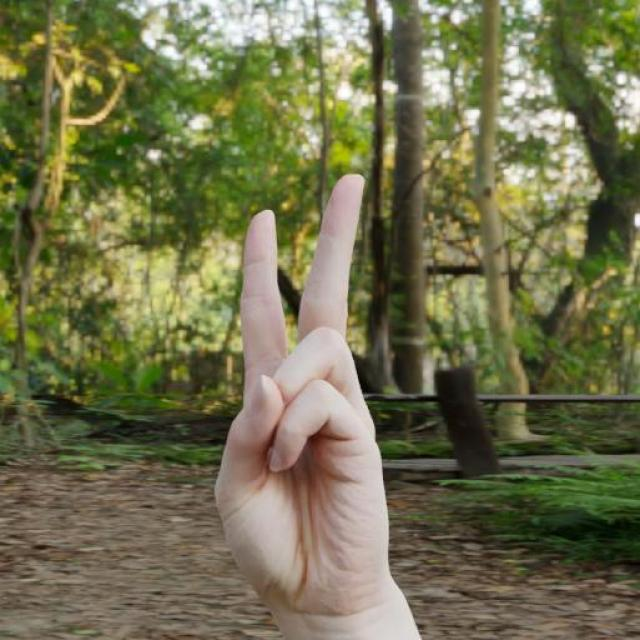V: (221, 180, 393, 640)
